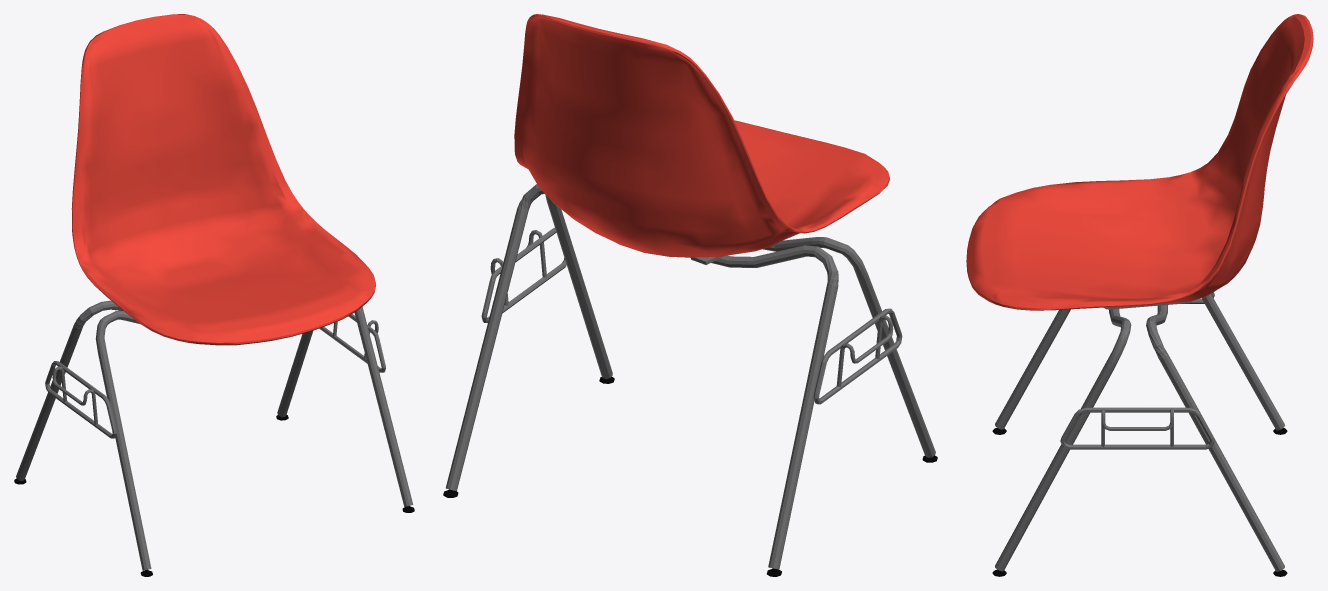
The model's file is HMI_Eames_Molded_Shell_Side_Chair_Stacking_Base_3D.dae.
3 views of the same model, side by side, from view 1: azimuth 30°, elevation 25°; view 2: azimuth 150°, elevation 25°; view 3: azimuth 270°, elevation 25° (orthographic). The views are drawn at different scales.
Parts seen in each view (by area): view 1: Mesh1_ncl1_1; view 2: Mesh1_ncl1_1; view 3: Mesh1_ncl1_1.
Boxes of the visible parts, <box> form: Mesh1_ncl1_1: <box>14,14,414,576</box>; Mesh1_ncl1_1: <box>443,14,937,576</box>; Mesh1_ncl1_1: <box>966,14,1313,576</box>.
Size of the model in its own units: 23.06 by 31.31 by 21.13.
